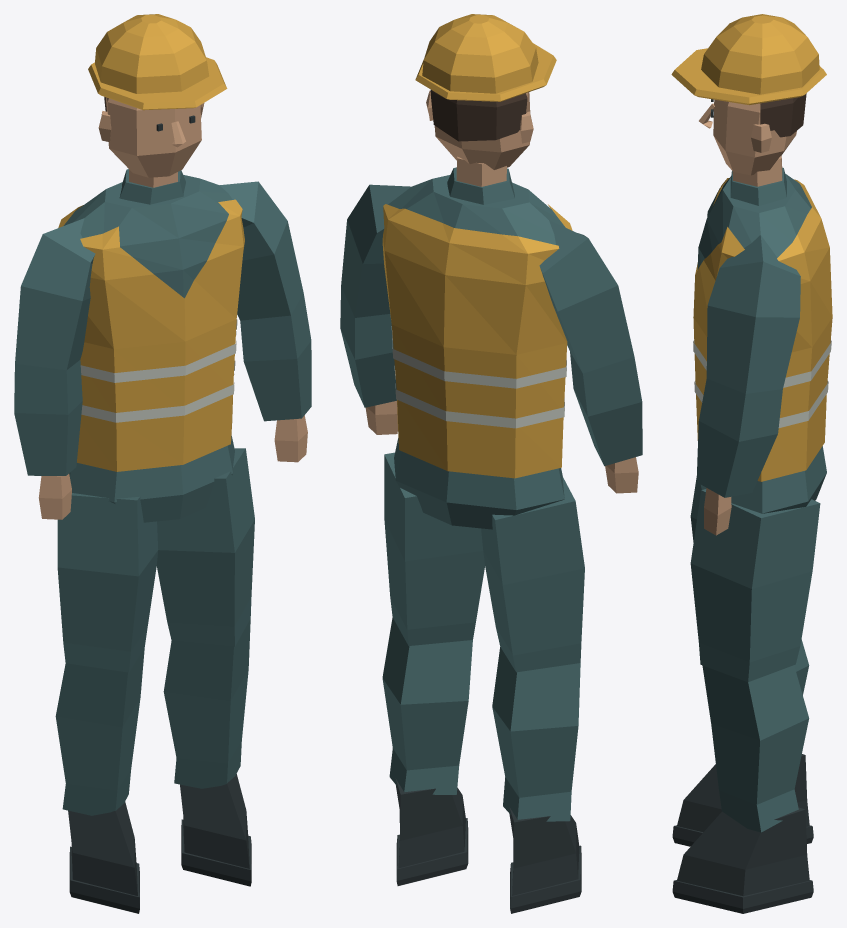
File: worker-low.glb
The picture shows the model from 3 angles, left to right: view 1: azimuth 30°, elevation 25°; view 2: azimuth 150°, elevation 25°; view 3: azimuth 270°, elevation 25°; orthographic projection.
Visible parts, largest first — view 1: worker-low__material_00, worker-low__material_02, worker-low__material_01, worker-low__material_04, worker-low__material_05; view 2: worker-low__material_00, worker-low__material_02, worker-low__material_01, worker-low__material_04, worker-low__material_05, worker-low__material_03; view 3: worker-low__material_00, worker-low__material_02, worker-low__material_01, worker-low__material_04, worker-low__material_03, worker-low__material_05.
Boxes of the visible parts, x1,y1,x2,y2 form: worker-low__material_00: [14, 169, 311, 815]; worker-low__material_02: [58, 14, 244, 471]; worker-low__material_01: [68, 115, 251, 913]; worker-low__material_04: [38, 97, 307, 519]; worker-low__material_05: [80, 319, 237, 422]; worker-low__material_00: [340, 167, 642, 821]; worker-low__material_02: [382, 14, 572, 478]; worker-low__material_01: [395, 778, 581, 913]; worker-low__material_04: [365, 90, 638, 493]; worker-low__material_05: [391, 326, 566, 428]; worker-low__material_03: [430, 90, 527, 141]; worker-low__material_00: [690, 167, 826, 832]; worker-low__material_02: [671, 14, 832, 481]; worker-low__material_01: [672, 99, 813, 913]; worker-low__material_04: [699, 99, 796, 535]; worker-low__material_03: [760, 93, 806, 137]; worker-low__material_05: [693, 340, 831, 427].
Size of the model in its own units: 0.6228 by 1.7 by 0.292.
